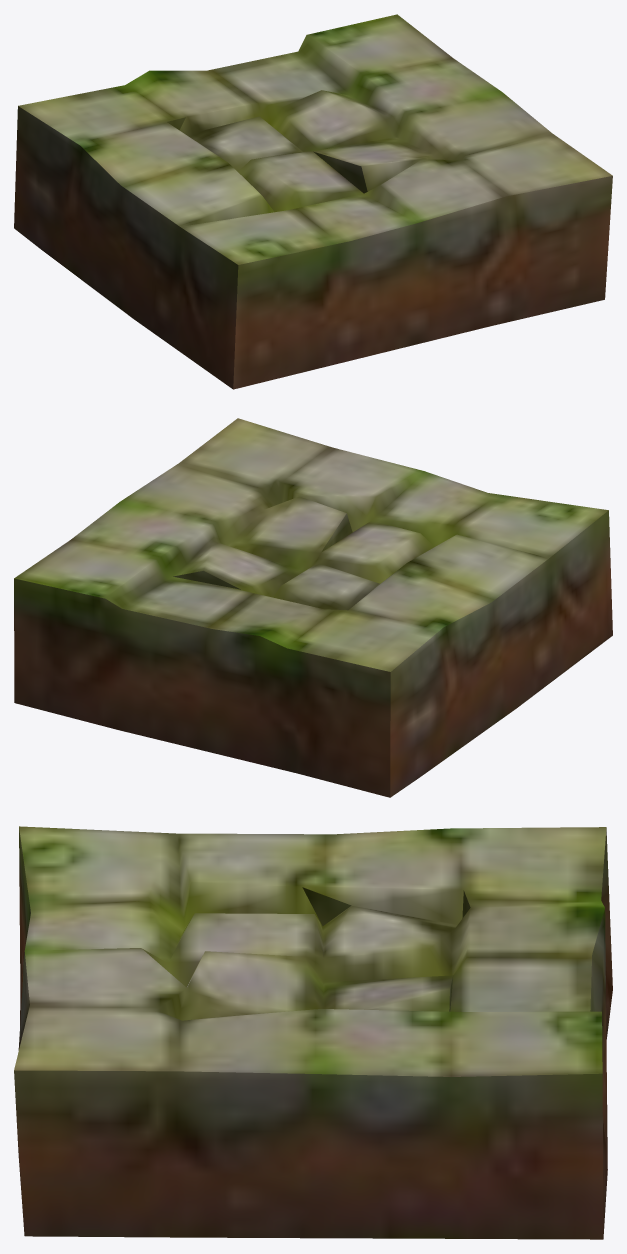
File: b_racines_sol_1_lod1.glb
3 views of the same model, one above another, from view 1: azimuth 30°, elevation 25°; view 2: azimuth 150°, elevation 25°; view 3: azimuth 270°, elevation 25° (orthographic). The views are drawn at different scales.
Parts seen in each view (by area): view 1: geometry_0; view 2: geometry_0; view 3: geometry_0.
Boxes of the visible parts, x1,y1,x2,y2 form: geometry_0: (14, 14, 612, 389); geometry_0: (14, 418, 612, 797); geometry_0: (14, 826, 612, 1239).
Size of the model in its own units: 1 by 0.3178 by 1.
1 material, 1 textured.
